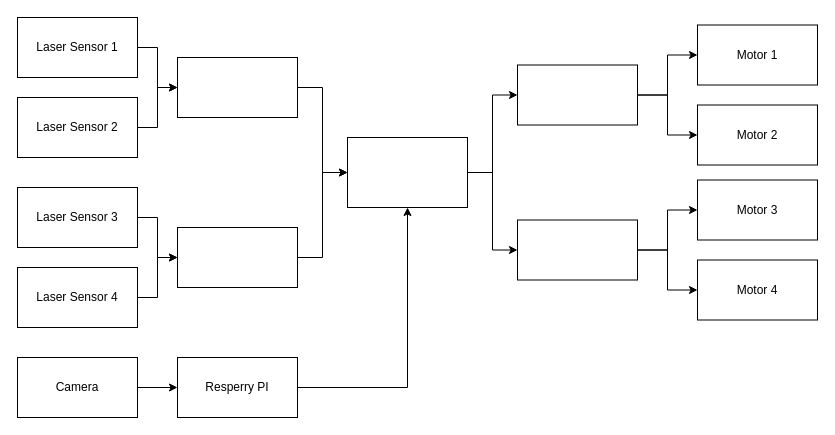
The diagram is 835 pixels wide and 435 high, and some of its shapes have lost their labels. Each missing label, with the box of its shape:
Laser data processor 1: (176, 56, 298, 118)
Laser data processor 2: (176, 226, 298, 288)
Main Processor (ep32 S3): (346, 136, 468, 208)
Motor Control IC 1: (516, 64, 638, 125)
Motor Control IC 2: (516, 219, 638, 280)
